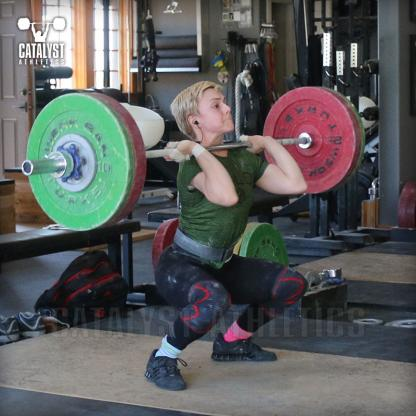barbell: (27, 94, 131, 233), (264, 88, 358, 196)
